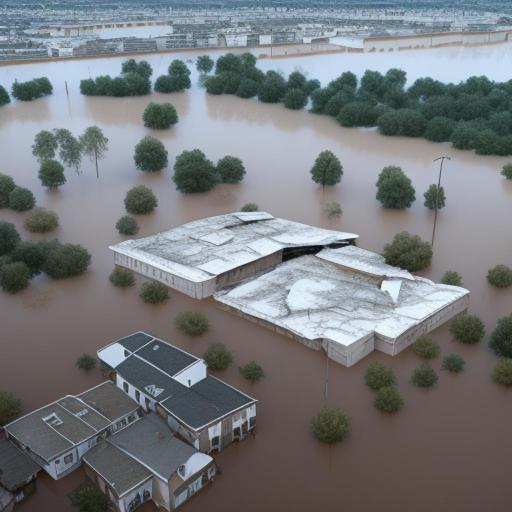house: (111, 208, 472, 370), (1, 394, 117, 484), (116, 416, 220, 510), (152, 376, 262, 454), (101, 329, 209, 401), (75, 442, 154, 512)
